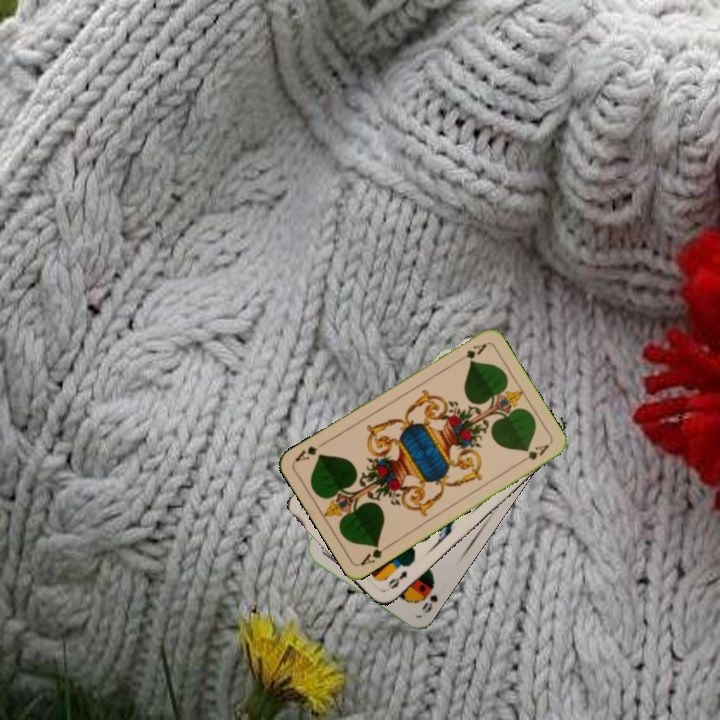EO: (380, 566, 410, 594)
GA: (356, 540, 393, 568), (452, 340, 489, 365)
SO: (418, 590, 440, 616)
